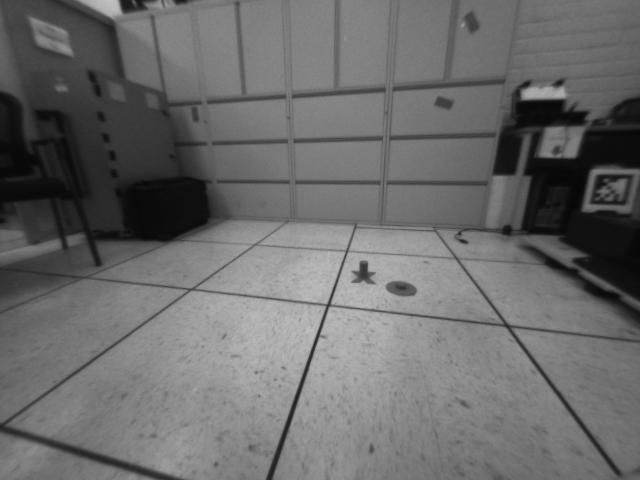X: (350, 260, 378, 285)
